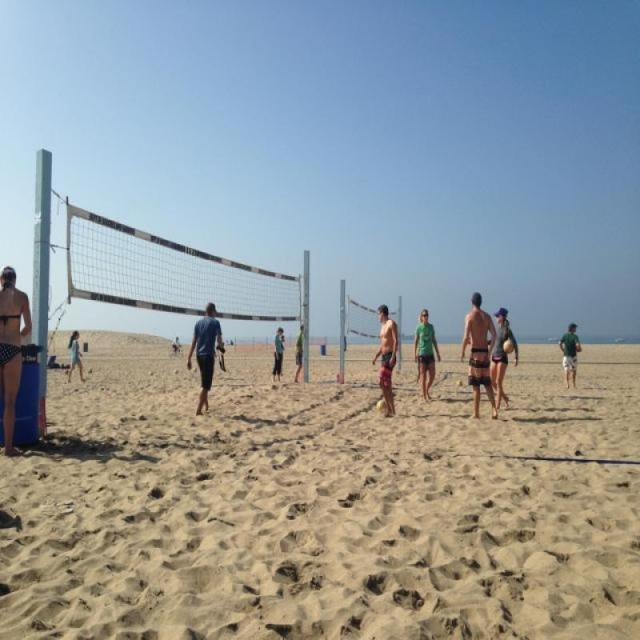volleyball: (502, 338, 515, 354), (377, 400, 387, 412), (148, 367, 154, 378), (456, 380, 464, 388), (192, 365, 198, 373), (174, 368, 178, 376)
